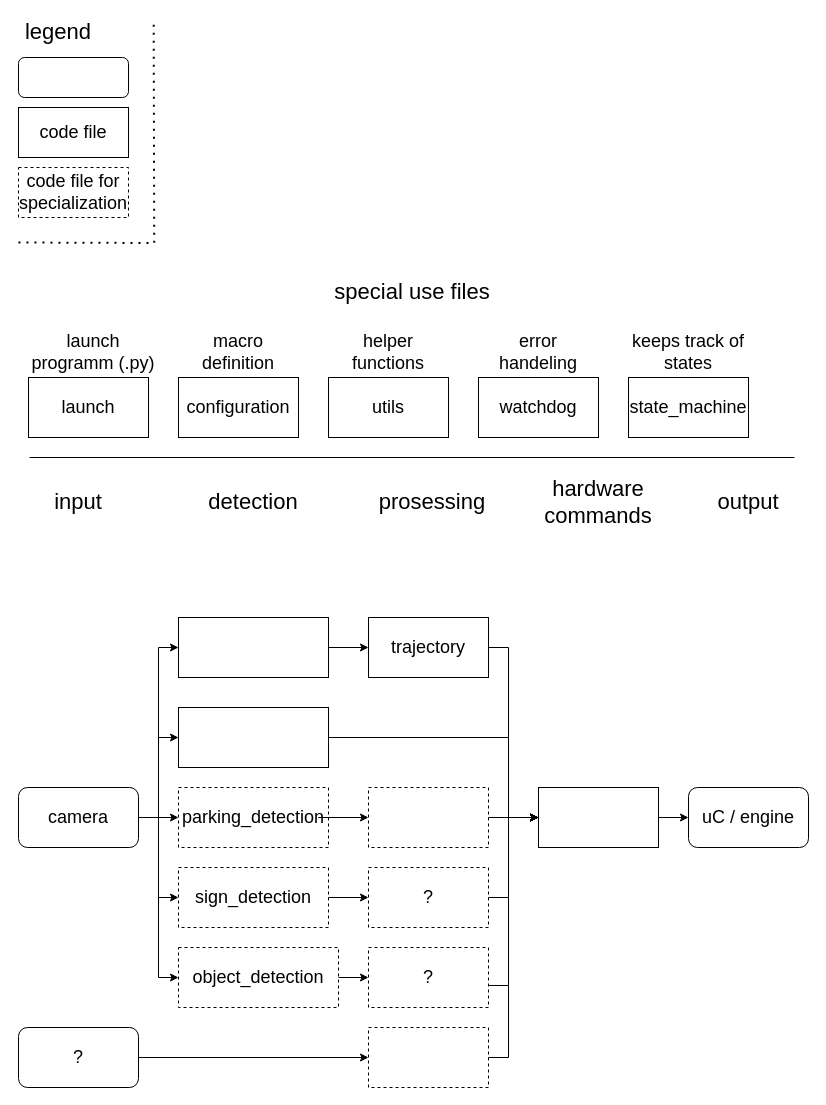
This 826x1105 diagram has some shape labels left out. Here are the shapes that lost their labels. From the top down, the centre of each, then its label:
At [73,77]: "real world object".
At [253,647]: "lane_detection".
At [253,737]: "startbox".
At [428,817]: "parking".
At [598,817]: "controller".
At [428,1057]: "manual_mode".
